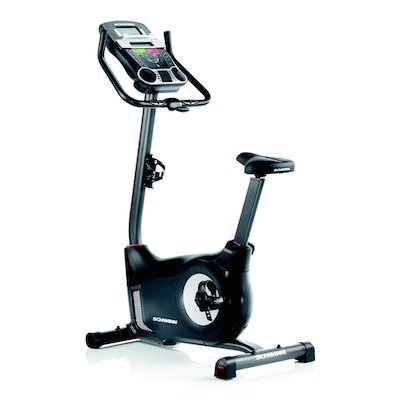gym_bike: (81, 19, 320, 385)
